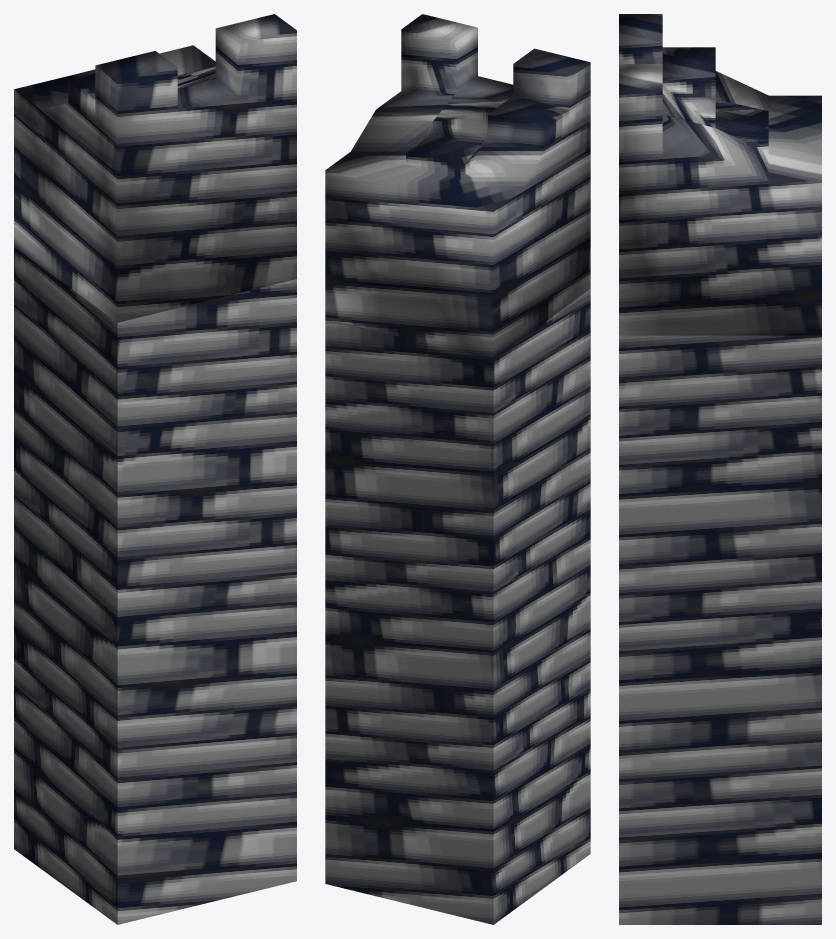
File: colonepluslongue.glb
The picture shows the model from 3 angles, left to right: view 1: azimuth 30°, elevation 25°; view 2: azimuth 150°, elevation 25°; view 3: azimuth 270°, elevation 25°; orthographic projection. The views are drawn at different scales.
Parts seen in each view (by area): view 1: Cube; view 2: Cube; view 3: Cube.
Boxes of the visible parts, box(x1,y1,x2,y2) form: Cube: box(14, 14, 296, 924); Cube: box(325, 14, 590, 924); Cube: box(619, 14, 821, 924).
Bounding box in the file's own units: 2 × 9.06 × 2.
1 material, 1 textured.
